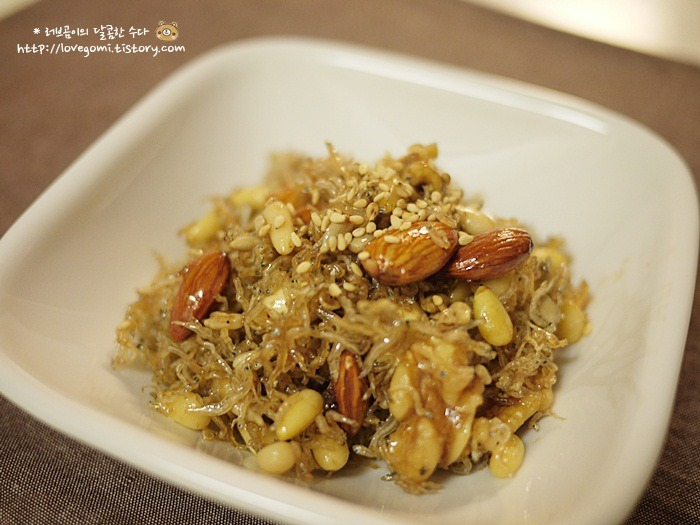myeolchibokk-eum: (112, 132, 592, 494)
